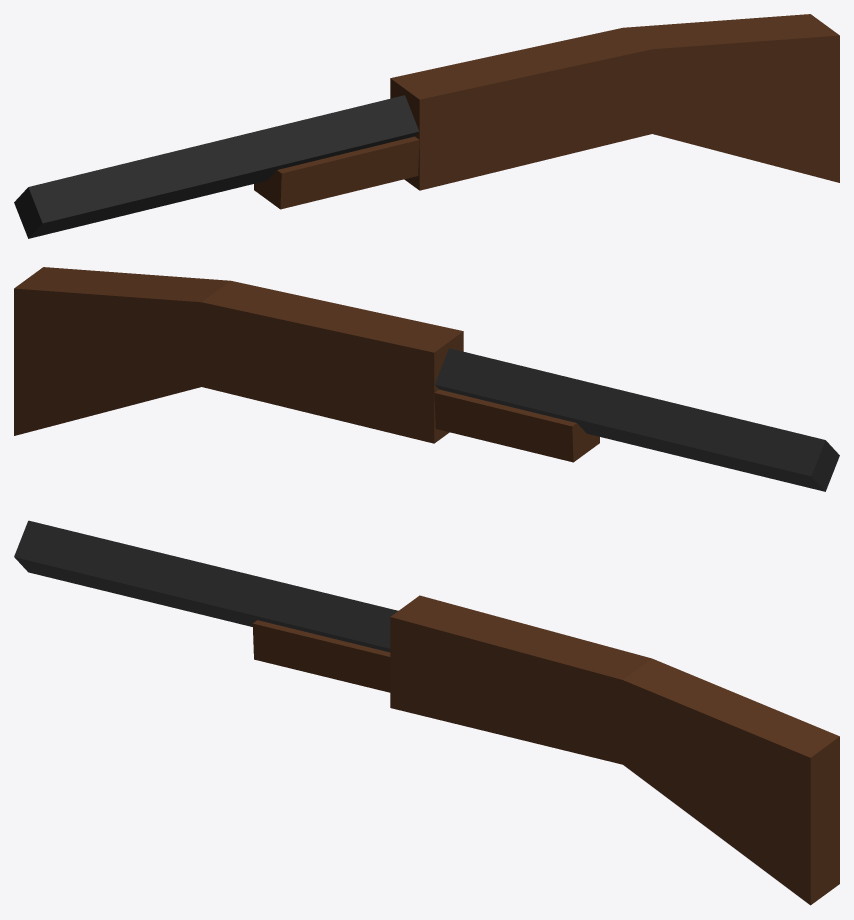
The model's file is Gun000.fbx.
3 views of the same model, one above another, from view 1: azimuth 30°, elevation 25°; view 2: azimuth 150°, elevation 25°; view 3: azimuth 330°, elevation 25° (orthographic).
Parts seen in each view (by area): view 1: Box006; view 2: Box006; view 3: Box006.
Boxes of the visible parts, x1=… form: Box006: x1=14, y1=14, x2=839, y2=238; Box006: x1=14, y1=267, x2=839, y2=491; Box006: x1=14, y1=520, x2=839, y2=905.
Bounding box in the file's own units: 118 × 26.4 × 7.56.
